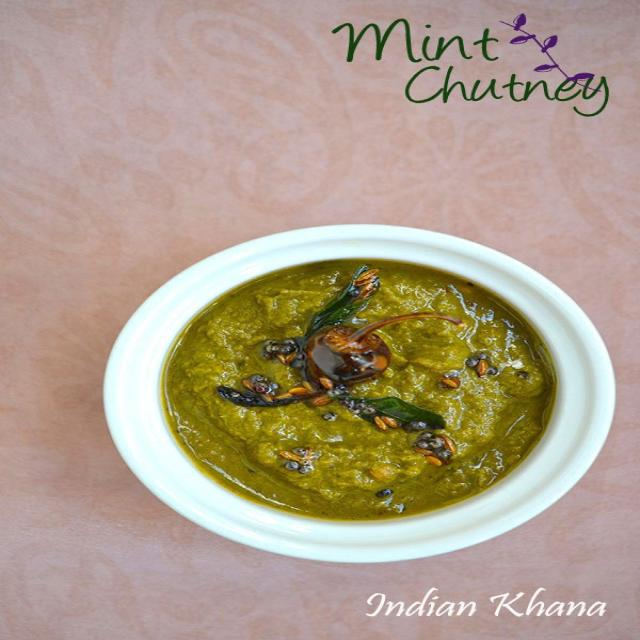puthina chutney: (120, 251, 551, 519)
